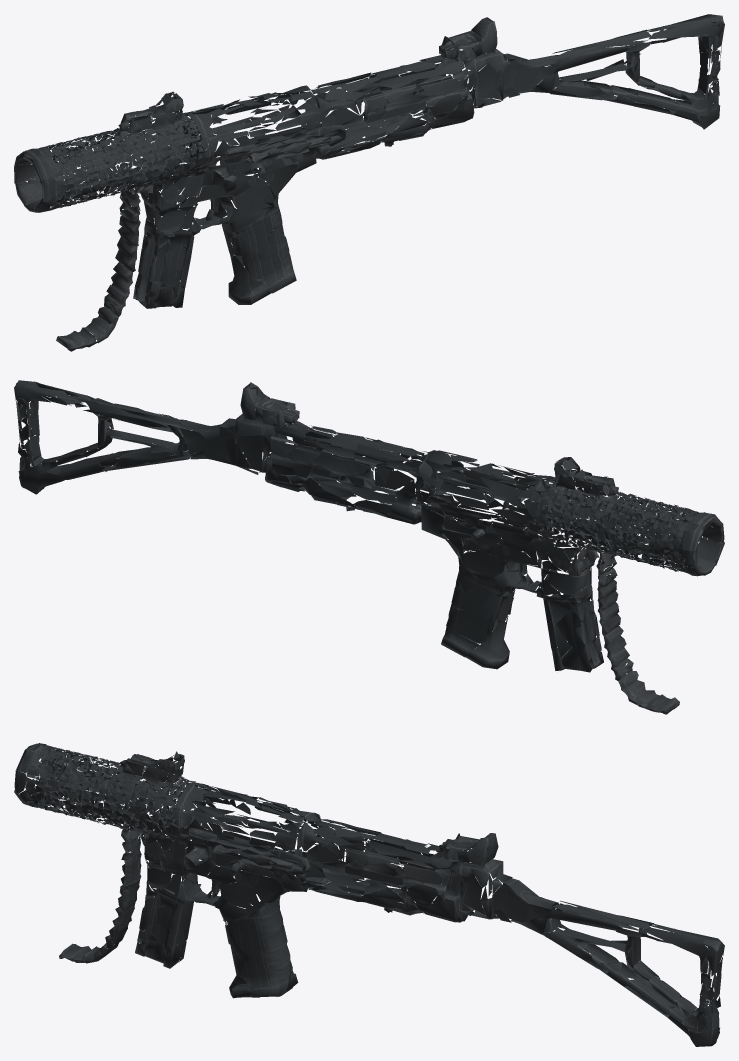
Rendered from makineli_tufek.glb.
3 views of the same model, one above another, from view 1: azimuth 30°, elevation 25°; view 2: azimuth 150°, elevation 25°; view 3: azimuth 330°, elevation 25° (orthographic).
Parts seen in each view (by area): view 1: makineli_tufek; view 2: makineli_tufek; view 3: makineli_tufek.
Part boxes in pixels (left/top/right/bottom): makineli_tufek: left=14, top=14, right=724, bottom=351; makineli_tufek: left=14, top=380, right=724, bottom=714; makineli_tufek: left=14, top=743, right=724, bottom=1046.
Size of the model in its own units: 1.22 by 0.3809 by 0.1148.
Materials: 1 (1 with a texture image).
